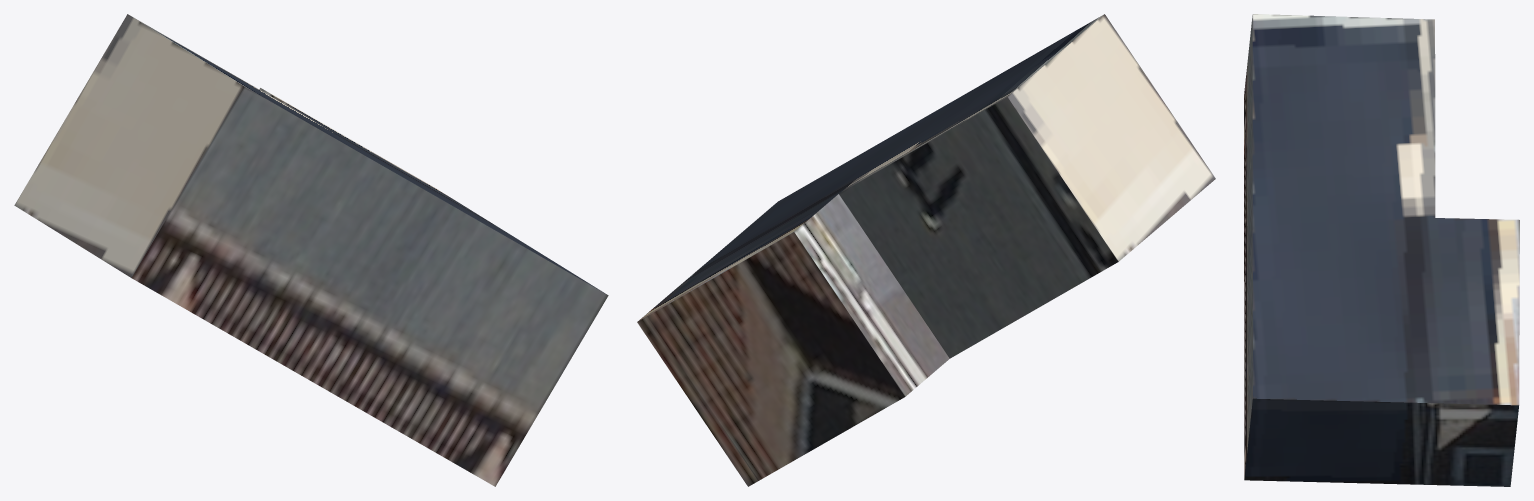
The picture shows the model from 3 angles, left to right: view 1: azimuth 30°, elevation 25°; view 2: azimuth 150°, elevation 25°; view 3: azimuth 270°, elevation 25°; orthographic projection. The views are drawn at different scales.
Visible parts, largest first — view 1: BAG_0599100100019937; view 2: BAG_0599100100019937 (×2); view 3: BAG_0599100100019937.
Boxes of the visible parts, x1,y1,x2,y2 form: BAG_0599100100019937: (14, 14, 608, 486); BAG_0599100100019937 (×2): (637, 14, 1215, 486); BAG_0599100100019937: (1244, 14, 1519, 486).
Bounding box in the file's own units: 6.47 × 5.95 × 3.92.
Materials: 1 (1 with a texture image).
